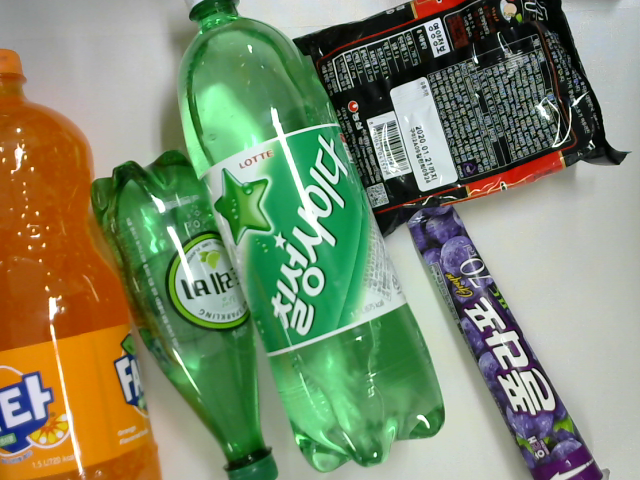Chilseong_Cider_1.5L: (171, 1, 454, 475)
Hwanta_Orange_1.5L: (2, 46, 169, 480)
Polapo_Grape: (405, 196, 617, 480)
Sinramen_Black: (290, 1, 636, 240)
Treviraim_500ml: (86, 149, 286, 480)
